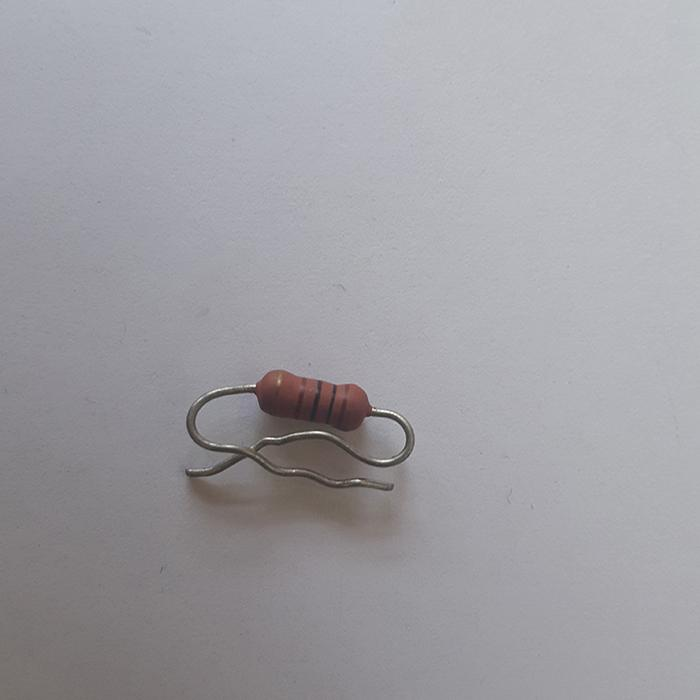resistor: (254, 368, 372, 430)
